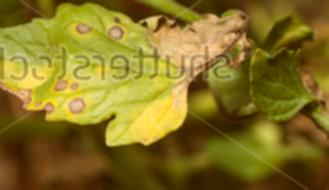Tomato leaf late blight: (0, 0, 259, 147)
